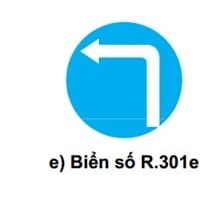Turn_left: (64, 21, 186, 140)
